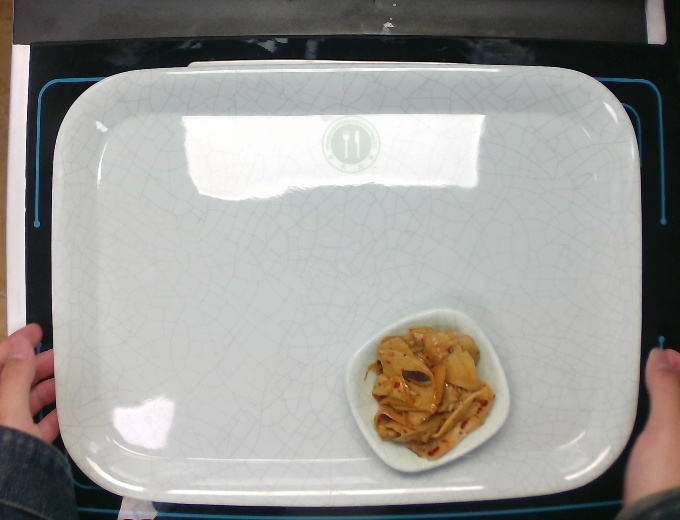JYsf-Si_Fang_Die: (335, 299, 517, 482)
